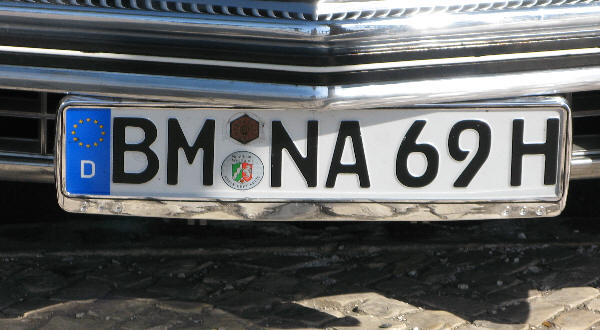license_plate: (61, 103, 568, 206)
